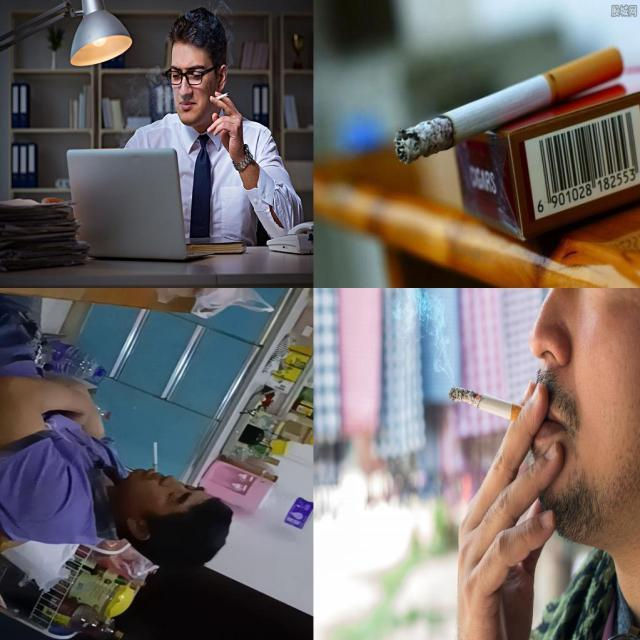smoking: (394, 46, 624, 166), (444, 379, 532, 429), (153, 442, 158, 472), (213, 92, 230, 100)
